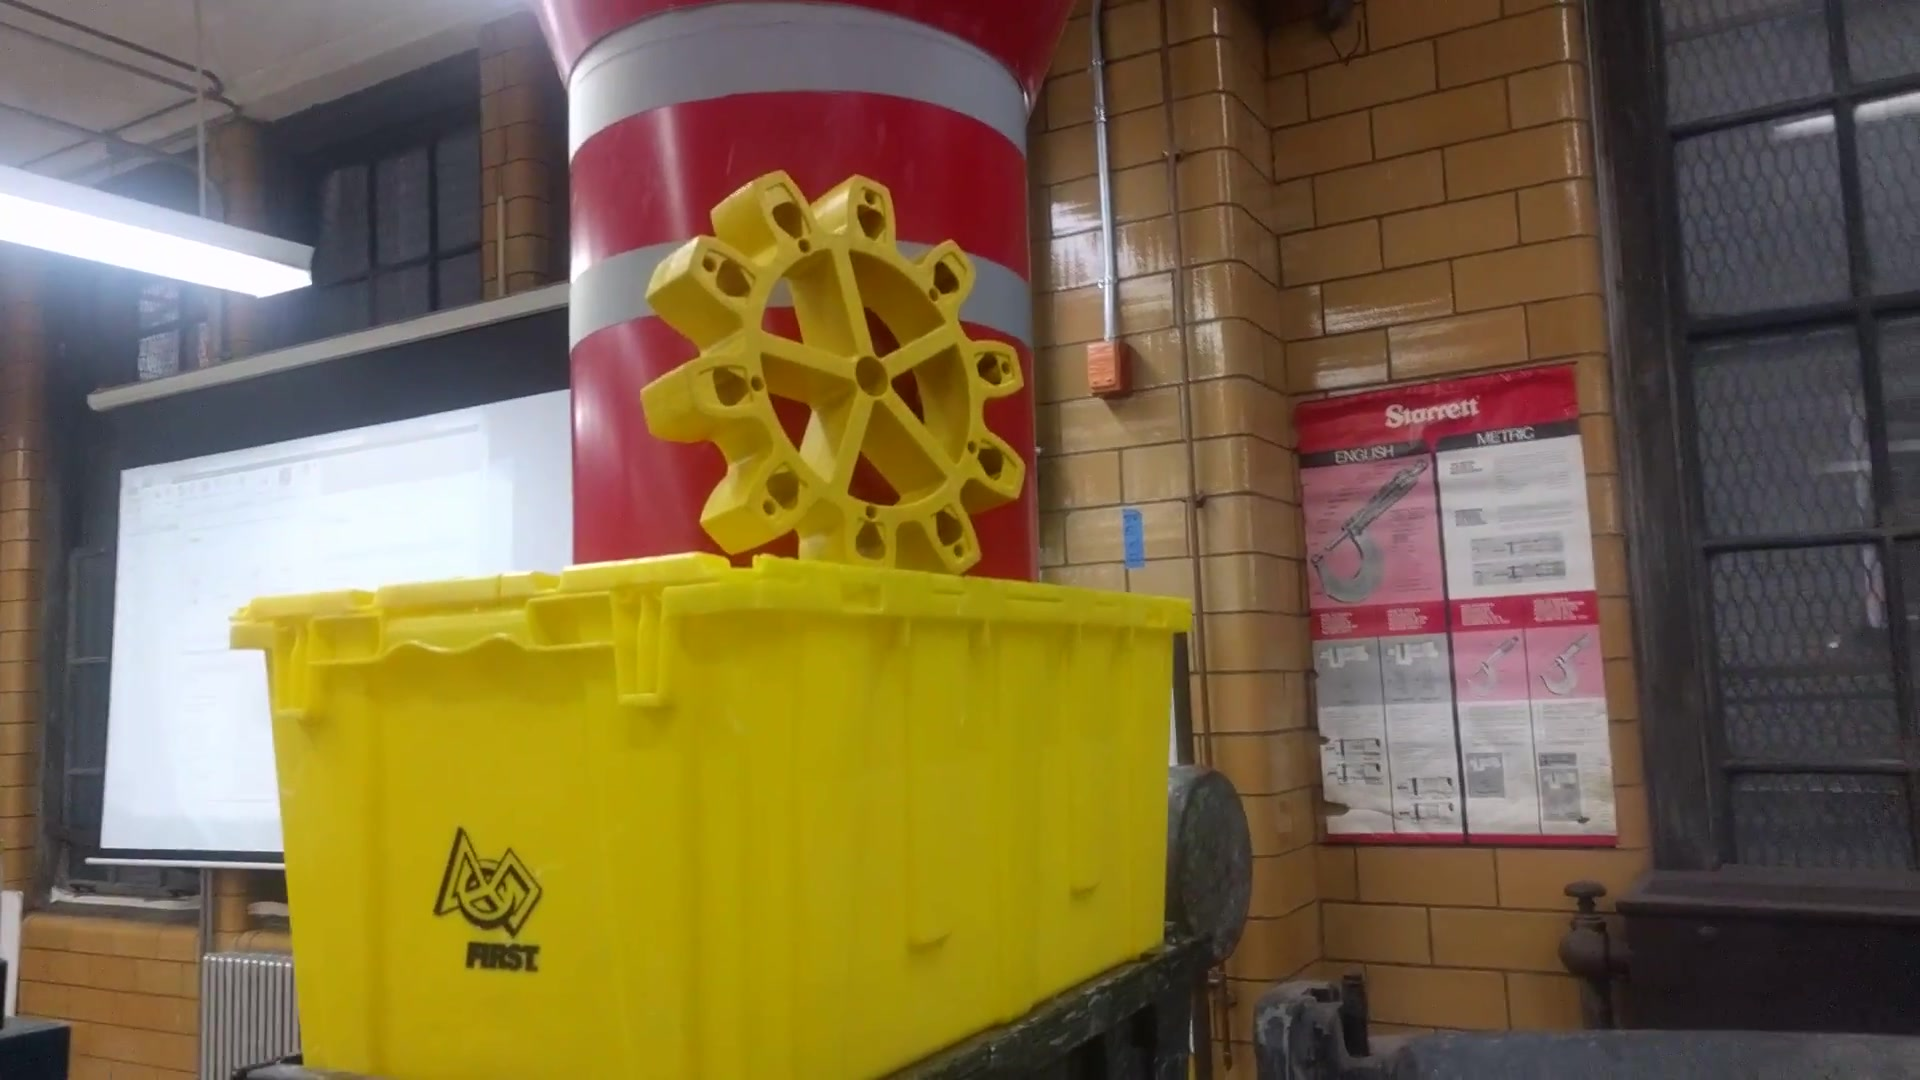gear: (651, 150, 1031, 591)
